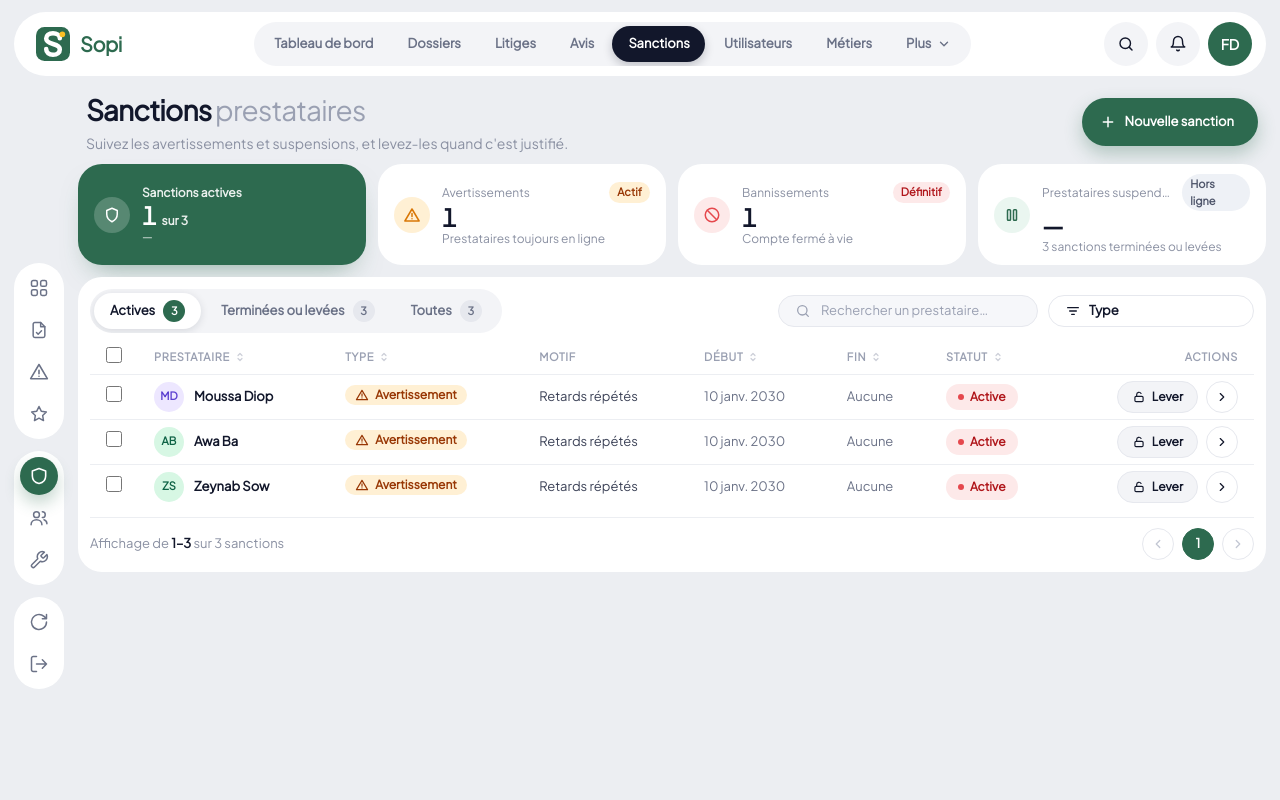
Scenario: Sanctions : tri, sélection et levée groupée › erreur partielle : « 2 sur 3 traités », la fenêtre reste ouverte, seule la ligne en échec reste cochée et peut être relancée
Expected: the table named "Liste des sanctions" is shown, [90,341,1254,508]
Step 1. Click the checkbox named "Tout sélectionner" → (114, 355), box [106,347,122,363]
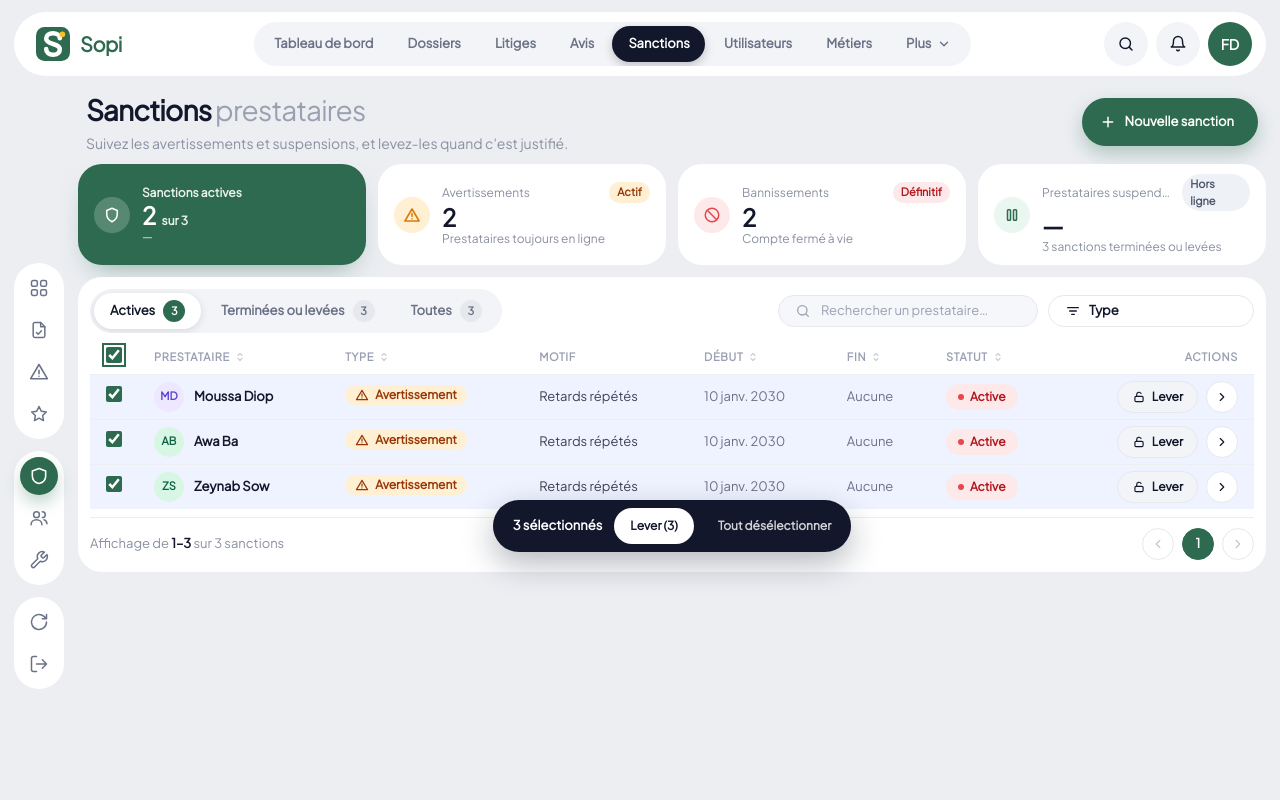
Step 2. Click the button "Lever (3)" → (654, 526), box [614,508,694,544]
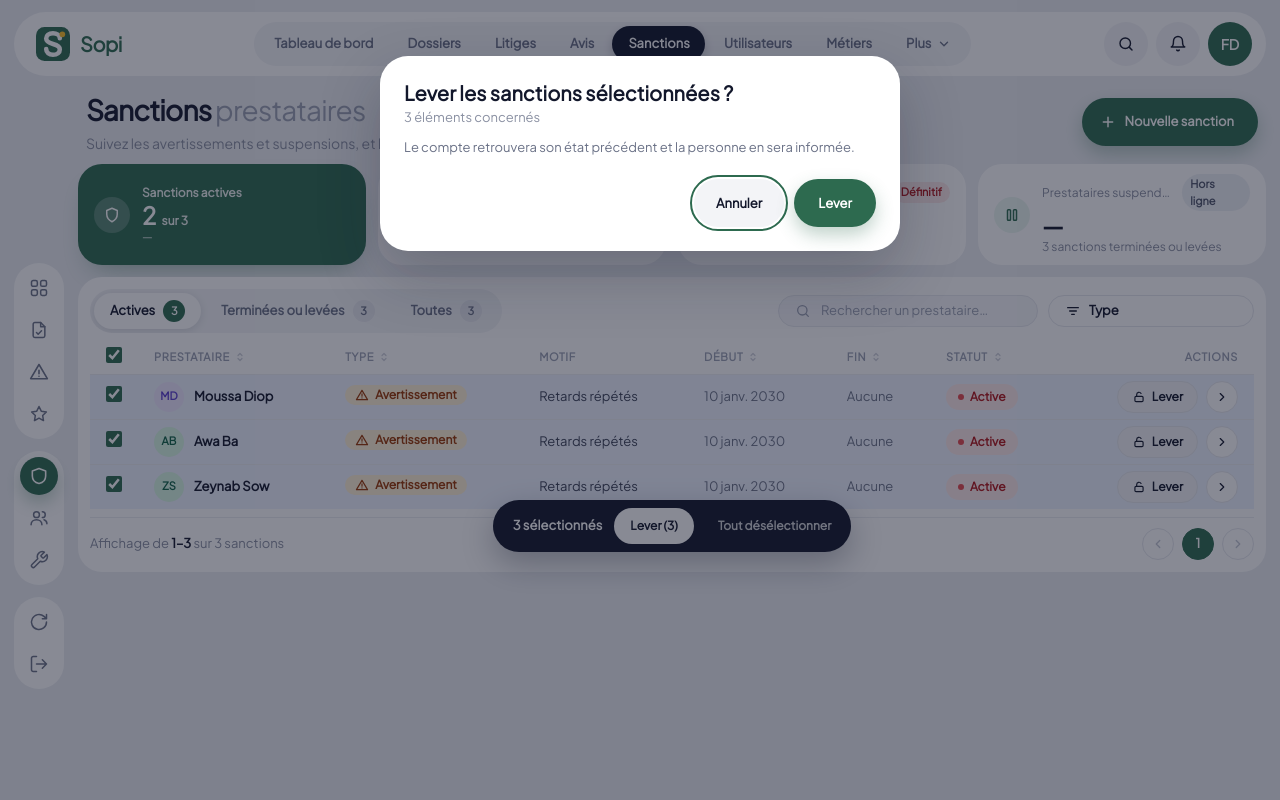
Step 3. Click the button "Lever" → (835, 203), box [794,179,876,227]
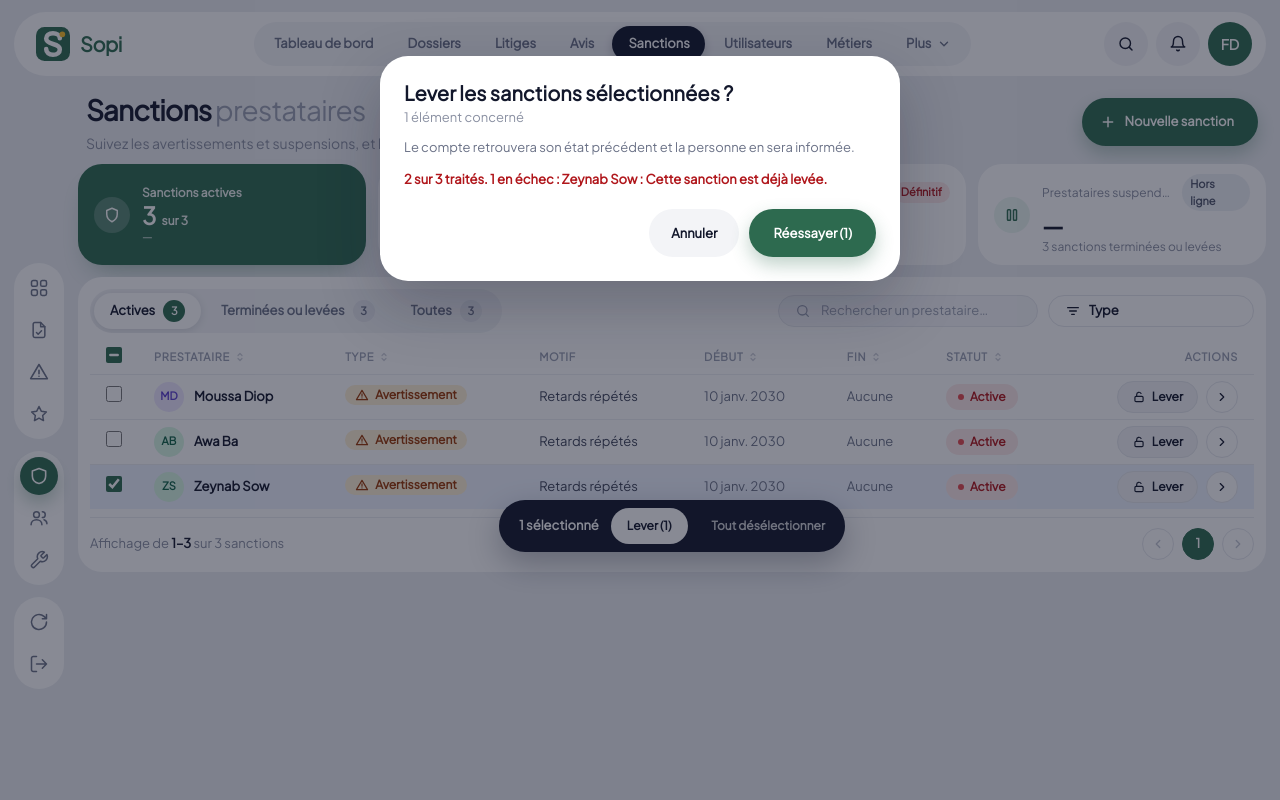
Expected: the dialog is shown, [380,56,900,281]
Expected: the message shows "2 sur 3 traités.", [404,171,827,187]
Expected: the message shows "1 en échec : Zeynab Sow : Cette sanction est déjà levée.", [404,171,827,187]
Step 4. Click the button "Réessayer (1)" → (813, 233), box [750,209,876,257]
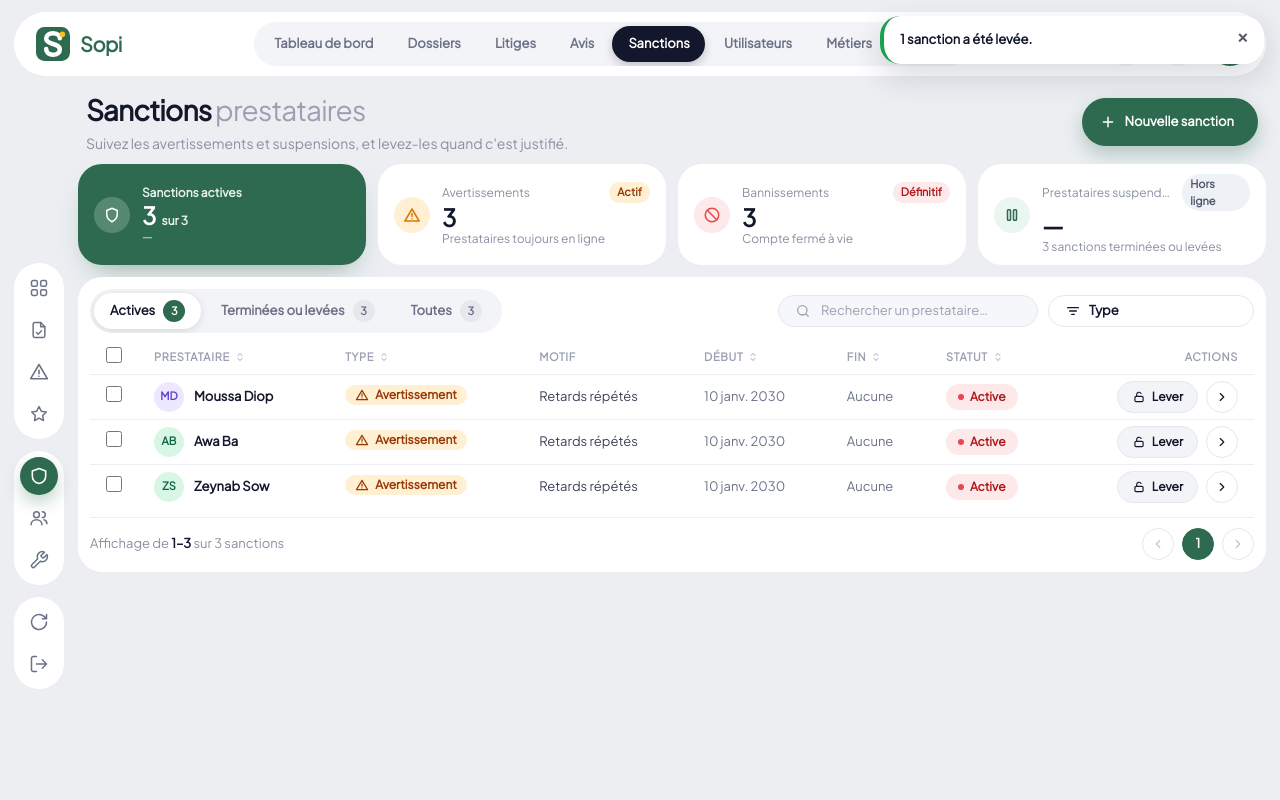
Expected: the text "1 sanction a été levée." is shown, [900,31,1032,47]
Expected: the dialog is gone
